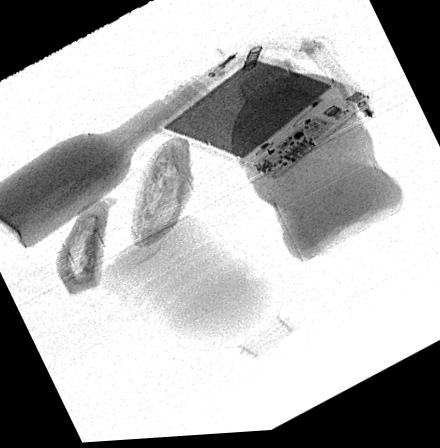Powerbank: (153, 60, 370, 181)
